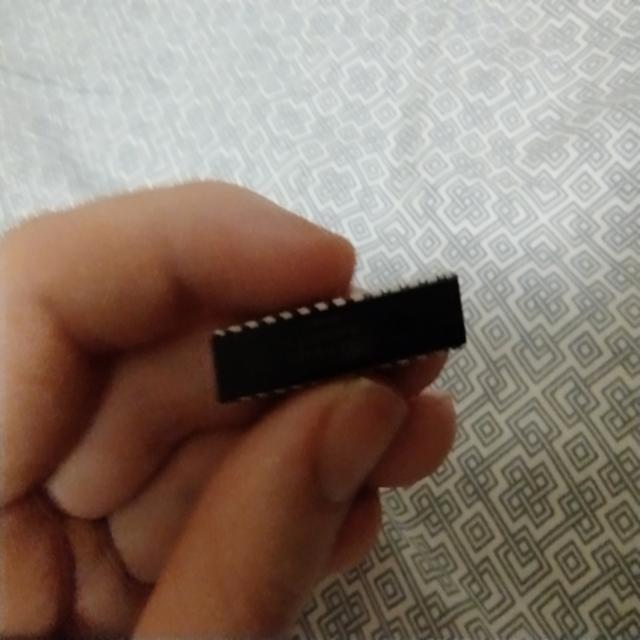atmega: (207, 268, 468, 408)
